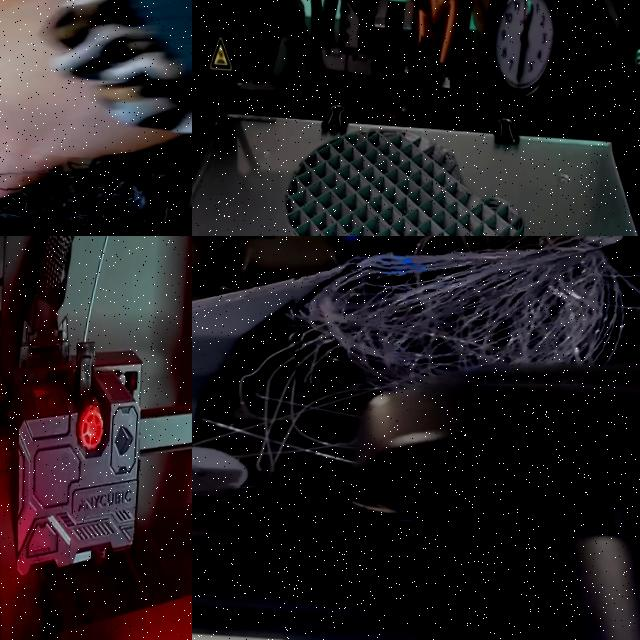spaghetti: (279, 236, 640, 409), (0, 149, 182, 236)
